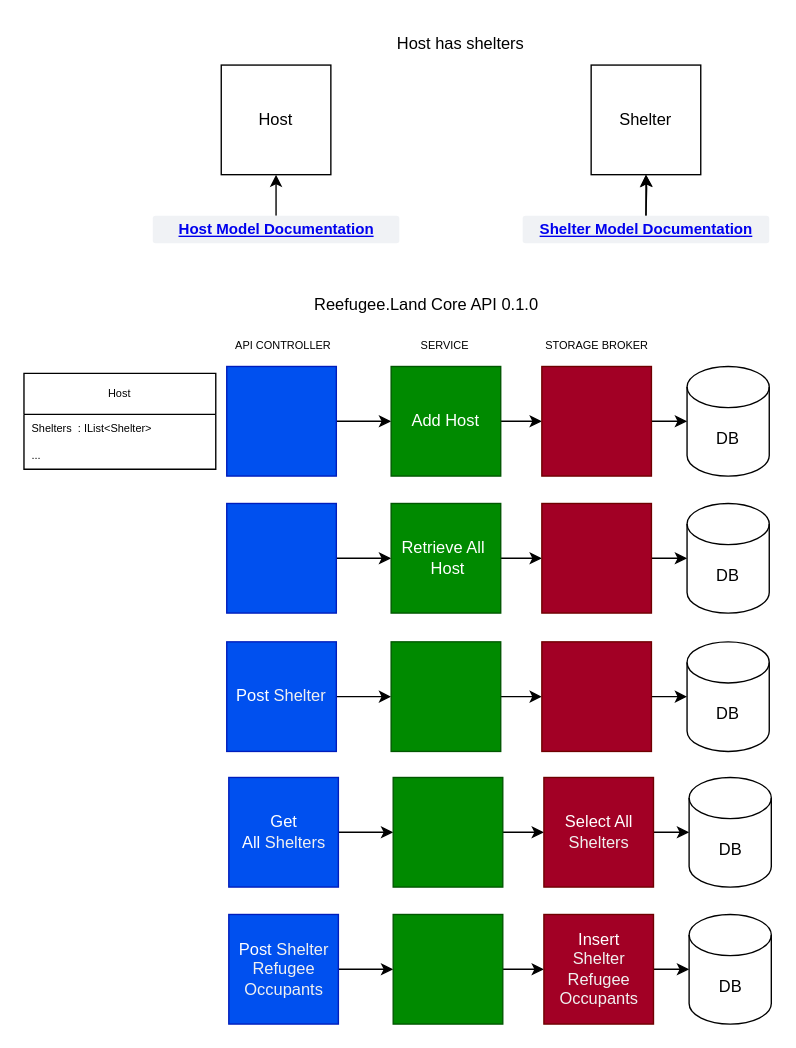
The diagram is 796 pixels wide and 1048 high, and some of its shapes have lost their labels. The shapes that lost their labels are listed below. From the top down, each one's box as (x1, y1, x2, y2) in pixels, then its label:
(225, 365, 336, 476): Post Host
(540, 365, 651, 476): Insert Host
(225, 502, 336, 613): Get All Hosts
(540, 502, 651, 613): Select All Host
(390, 640, 501, 751): Add Shelter
(540, 640, 651, 751): Insert Shelter
(392, 776, 503, 887): Retrieve All Shelters
(392, 913, 503, 1024): Add Shelter Refugee Occupants
